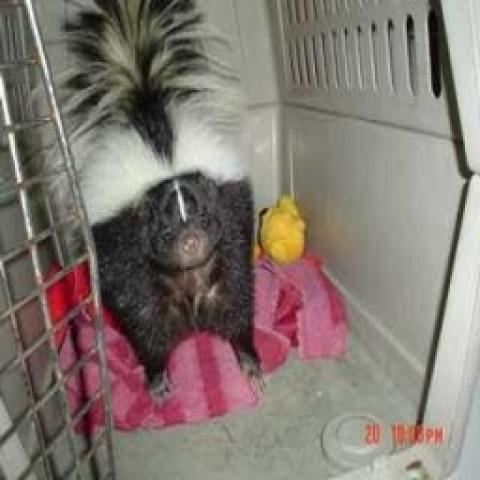small_animal: (0, 0, 478, 478), (28, 0, 264, 398)
